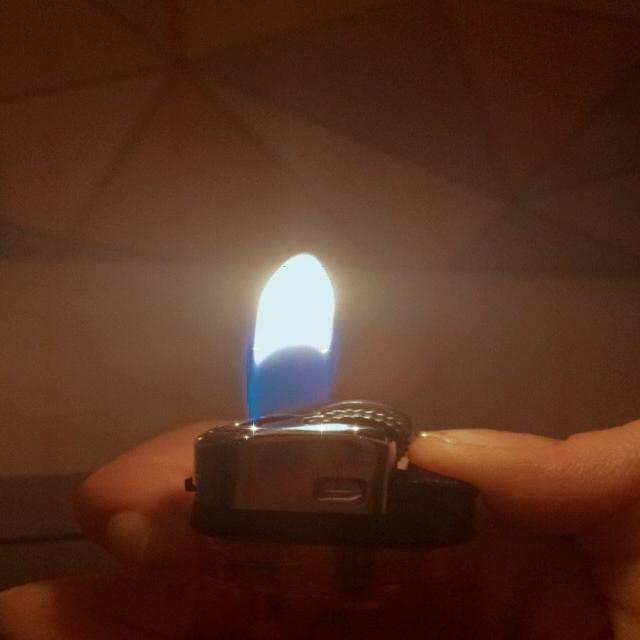fire: (241, 251, 339, 423)
